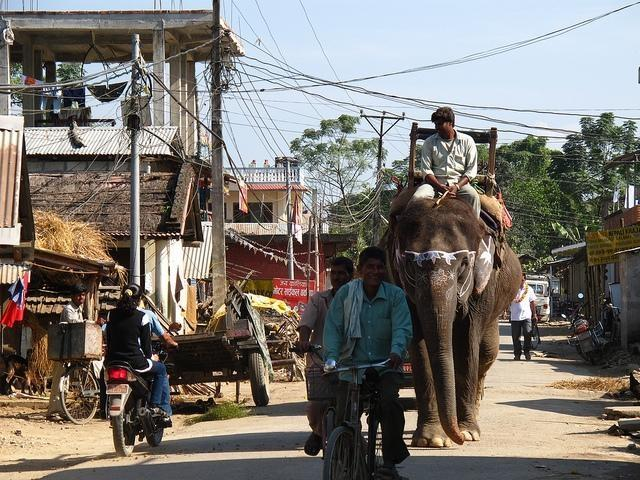bicycle: (316, 356, 396, 478), (58, 359, 100, 425)
car: (526, 280, 551, 321)
motorcycle: (104, 360, 166, 460), (561, 292, 607, 366)
